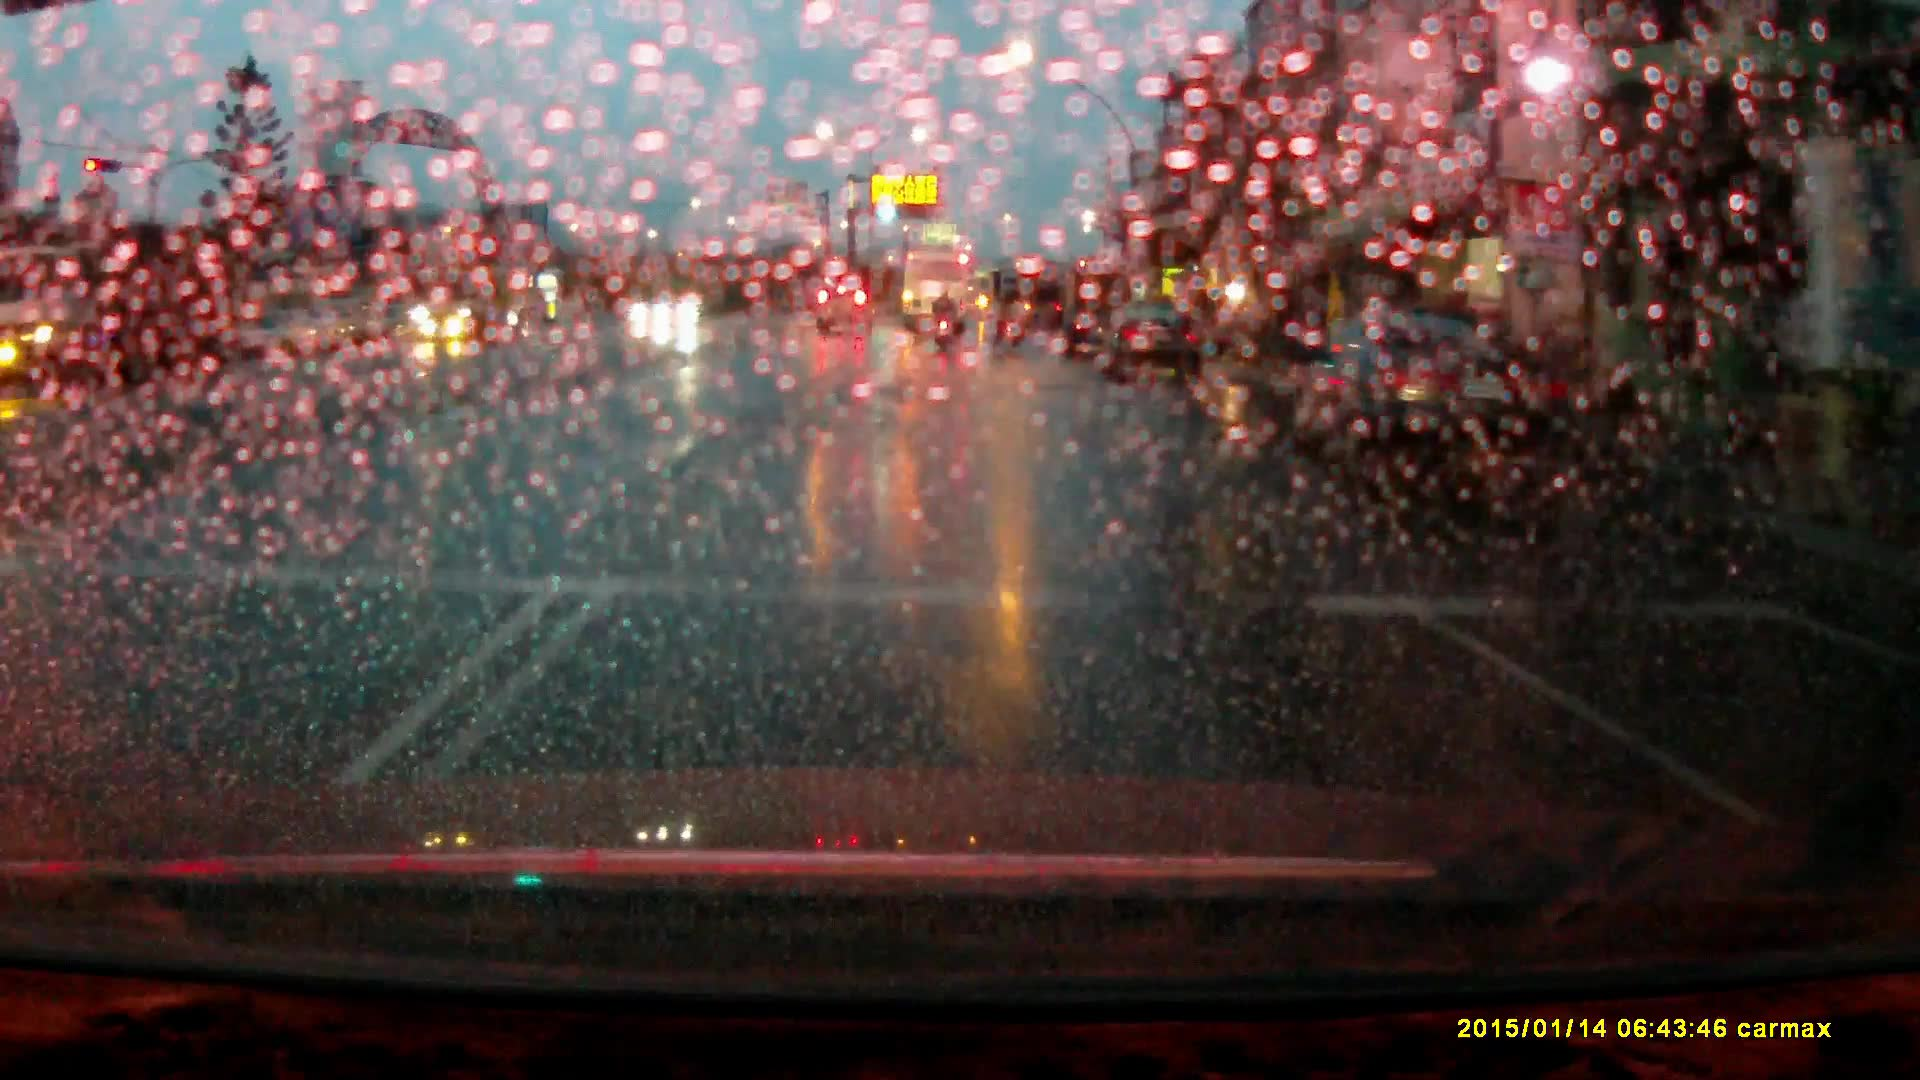rider: (932, 288, 957, 351)
vehicle: (1300, 314, 1556, 489), (1, 242, 234, 396), (410, 265, 538, 342), (1102, 307, 1200, 383), (902, 247, 973, 334), (813, 285, 877, 337), (651, 293, 700, 327)
